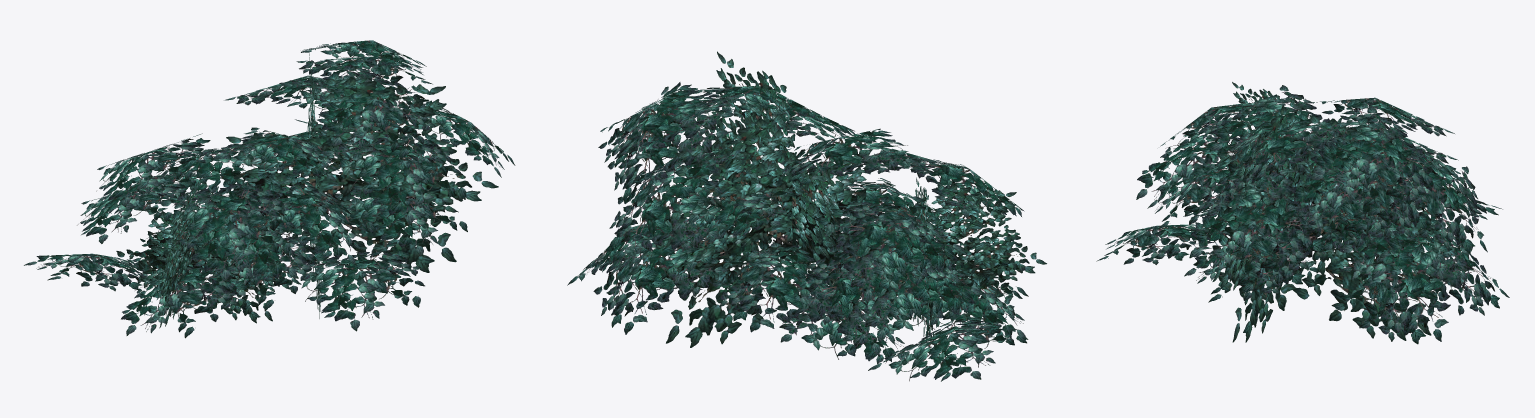
Rendered from shrb_dath_greybush_lg_l1.fbx.
3 views of the same model, side by side, from view 1: azimuth 30°, elevation 25°; view 2: azimuth 150°, elevation 25°; view 3: azimuth 270°, elevation 25° (orthographic). The views are drawn at different scales.
Parts seen in each view (by area): view 1: mesh_node; view 2: mesh_node; view 3: mesh_node.
Boxes of the visible parts, x1=… form: mesh_node: x1=24, y1=40, x2=515, y2=338; mesh_node: x1=567, y1=51, x2=1046, y2=381; mesh_node: x1=1096, y1=82, x2=1509, y2=344.
Bounding box in the file's own units: 7.21 × 3.91 × 5.88.
